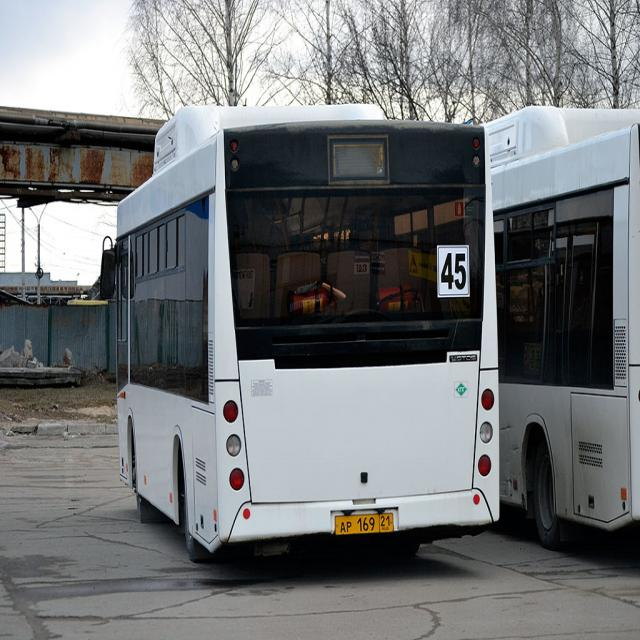number-of-bus: (441, 248, 470, 299)
